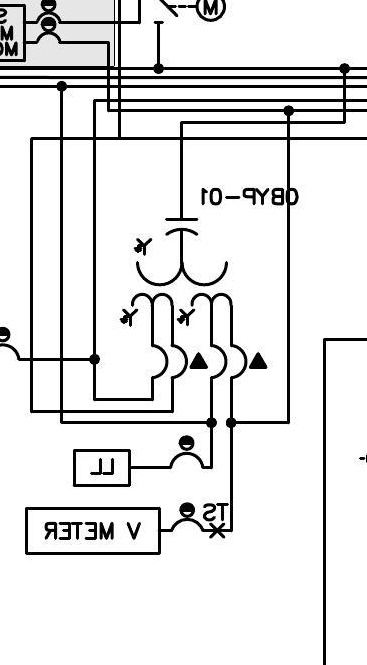115_cvt_3p: (119, 217, 269, 381)
LL: (72, 448, 132, 488)
v_m_digital: (24, 506, 162, 556)
